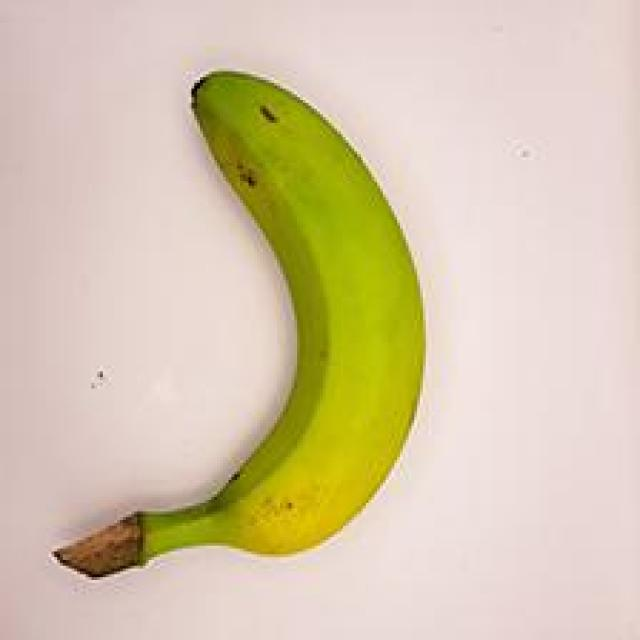Unripe: (38, 38, 430, 602)
